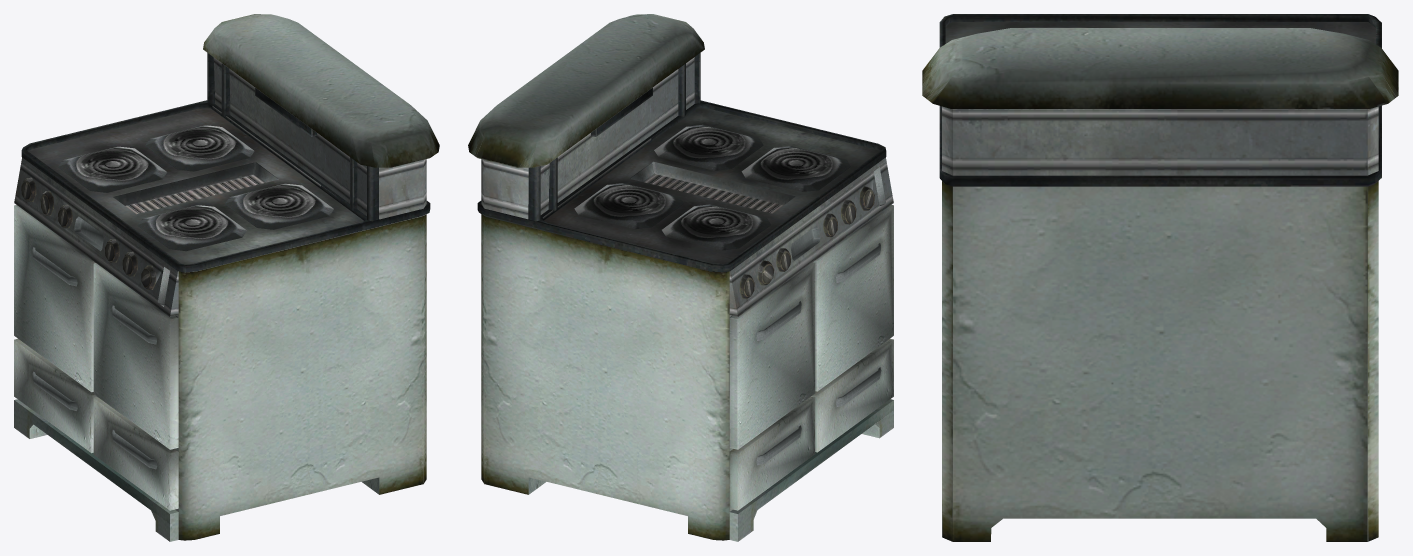
The model's file is cookingstove_clean.obj.
3 views of the same model, side by side, from view 1: azimuth 30°, elevation 25°; view 2: azimuth 150°, elevation 25°; view 3: azimuth 270°, elevation 25° (orthographic). The views are drawn at different scales.
Parts seen in each view (by area): view 1: Oven_0; view 2: Oven_0; view 3: Oven_0.
Boxes of the visible parts, bbox=[...] form: Oven_0: bbox=[14, 14, 439, 541]; Oven_0: bbox=[468, 14, 893, 541]; Oven_0: bbox=[922, 14, 1398, 541].
Size of the model in its own units: 73.12 by 91.08 by 82.8.
Materials: 1 (1 with a texture image).
